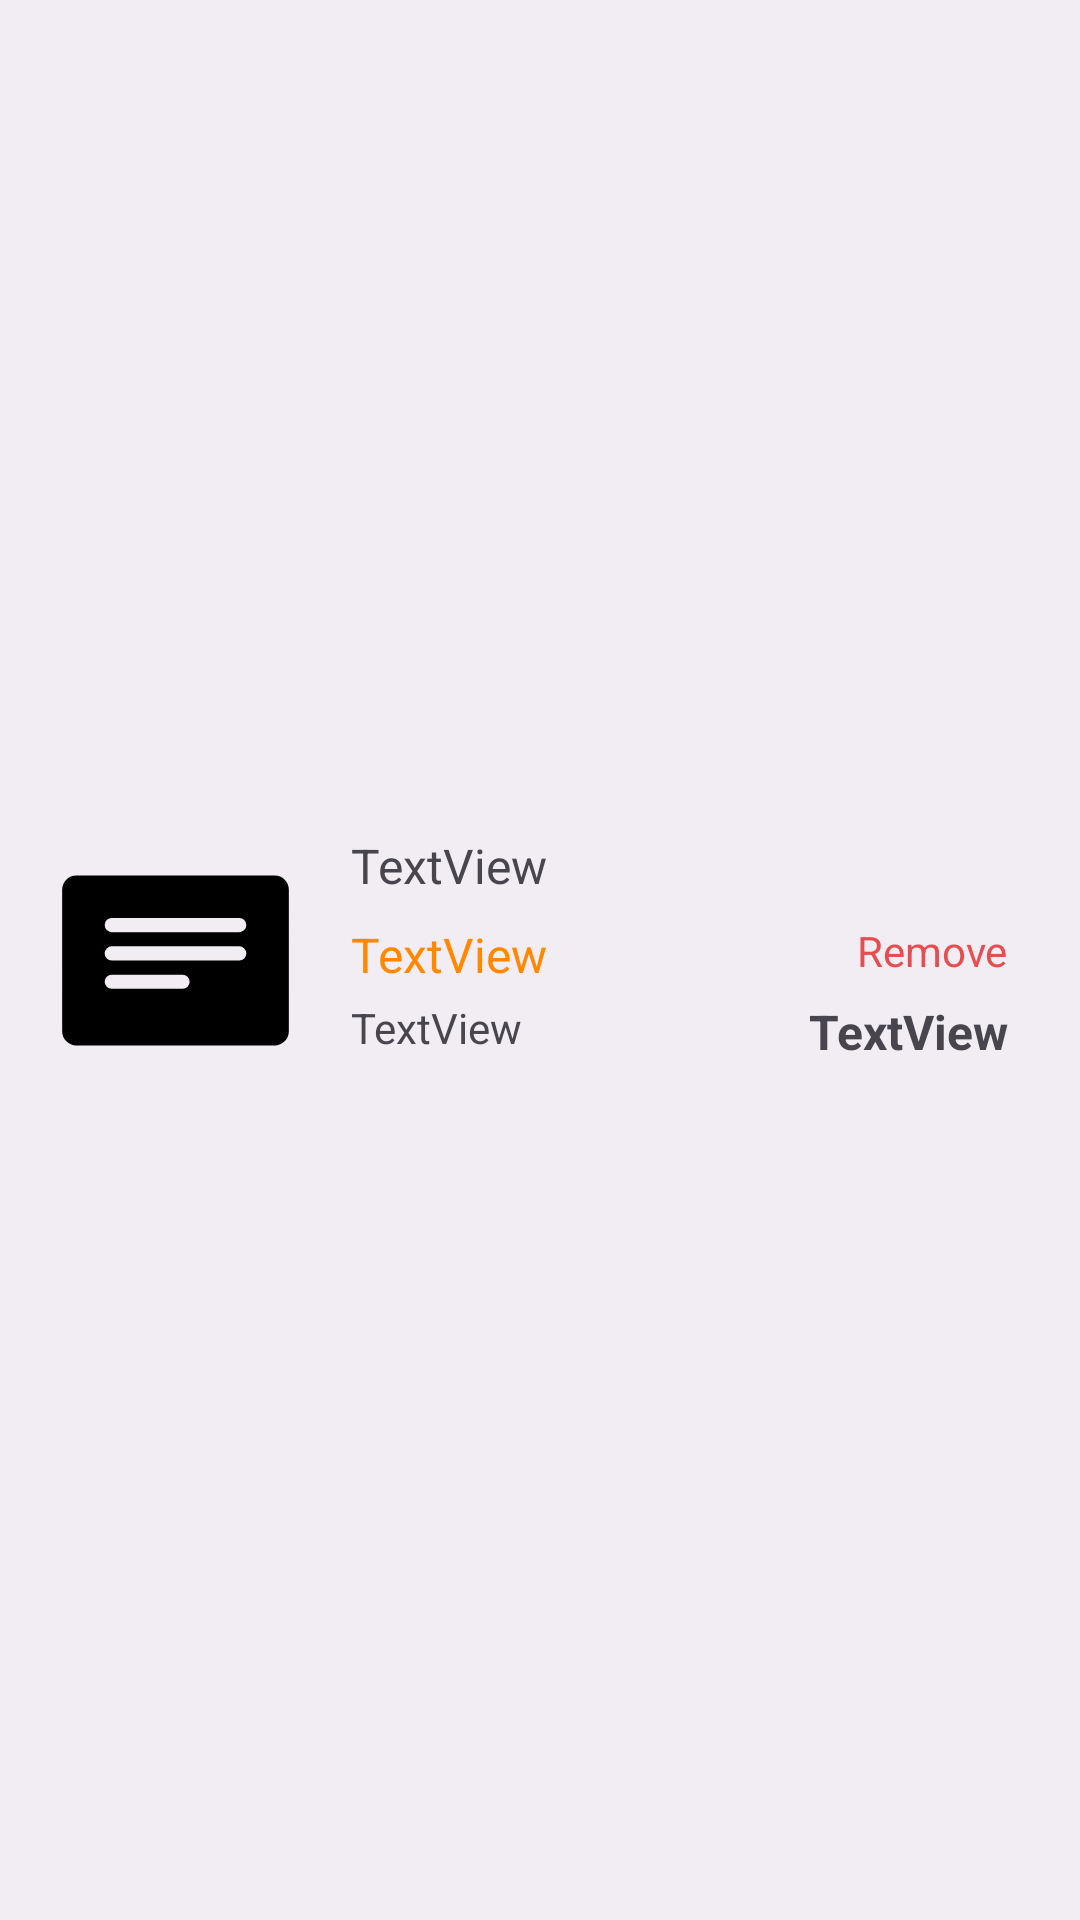

Icon bounding boxes for this 1080px×1920px phone screenshot, format detection(x1, y1, x2, y2):
details: detection(62, 875, 289, 1046)
